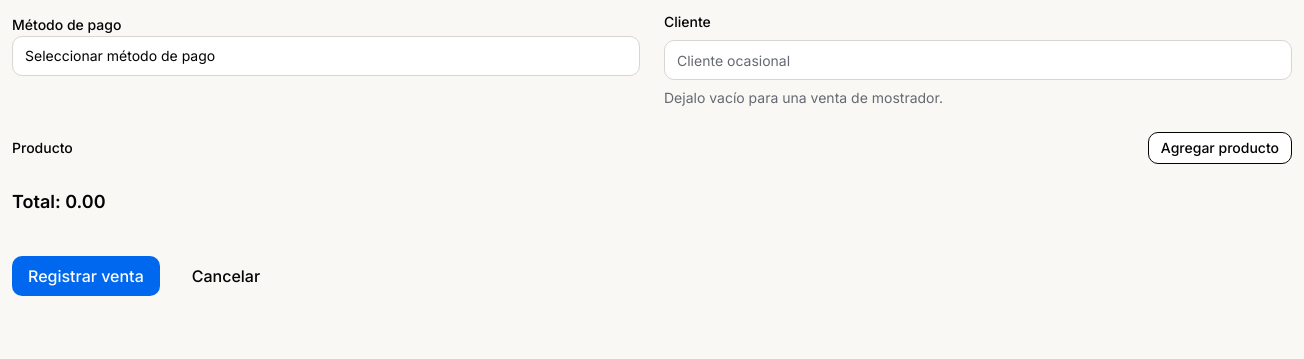
CheckoutForm › S12: blocks submit and shows the no-lines error when the sale is empty
This screenshot has width=1304, height=359.
Select "Efectivo" in the dropdown labelled "Método de pago": (326, 56) [12, 36, 640, 76]
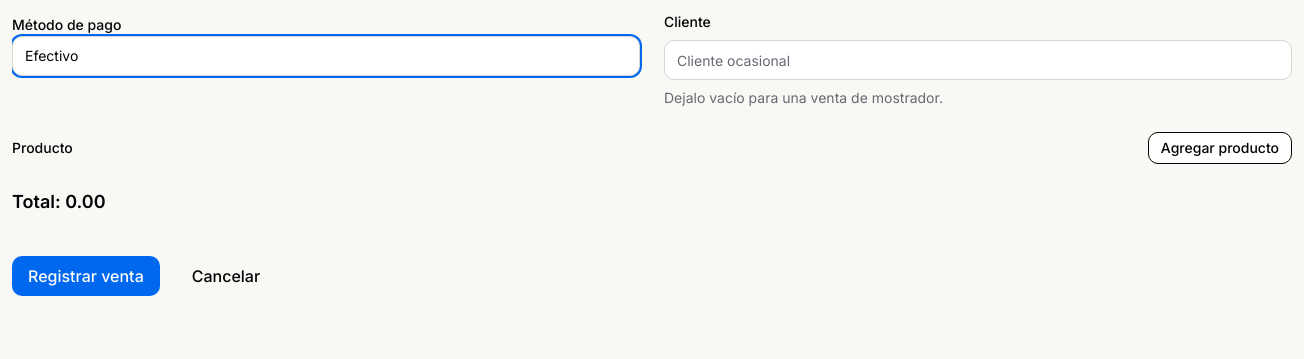
Click the button "Registrar venta": (86, 276) [12, 256, 160, 296]
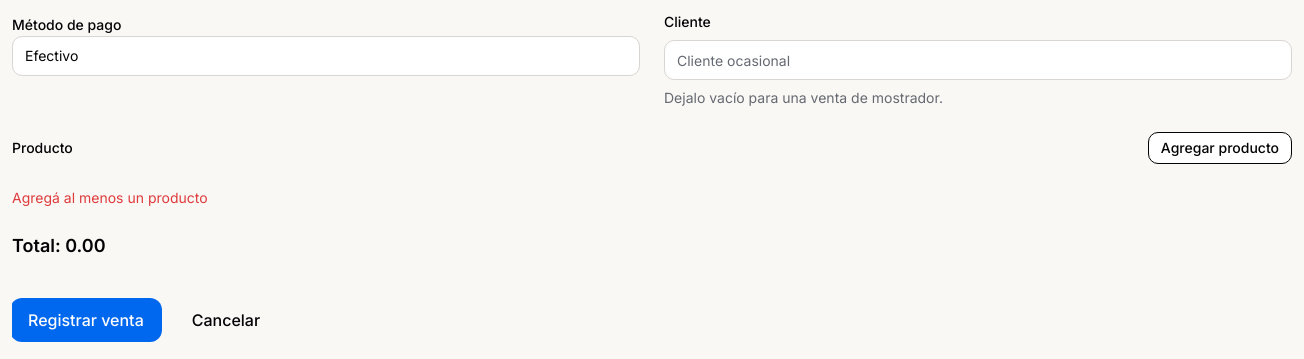
expect the message reads "Agregá al menos un producto": met, box [12, 189, 208, 206]
